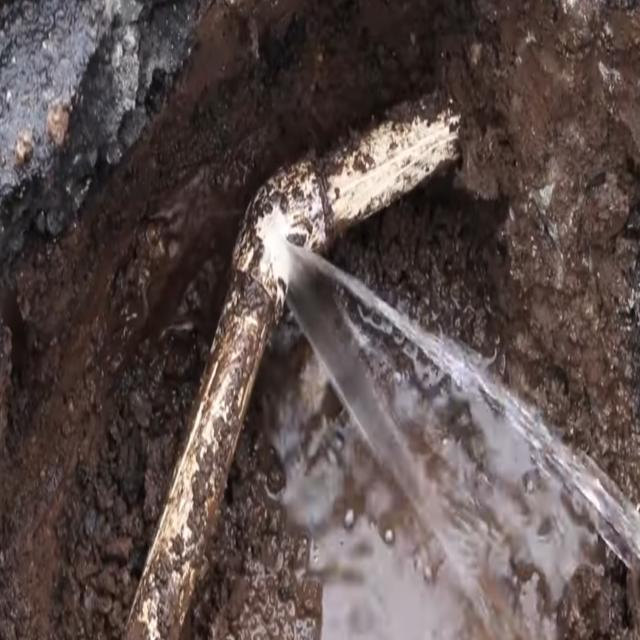leak: (275, 236, 640, 640)
